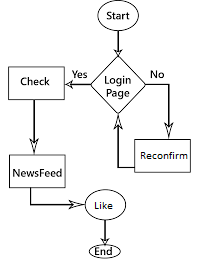arrow: (144, 81, 175, 139), (111, 113, 136, 169), (28, 186, 86, 208), (27, 98, 41, 156), (111, 28, 126, 59), (98, 218, 111, 246), (64, 79, 94, 89)
process: (7, 65, 67, 102), (7, 152, 68, 188), (132, 138, 191, 174)
terminator: (96, 1, 141, 32), (84, 189, 127, 221), (87, 243, 123, 260)
text: (104, 74, 133, 101), (11, 166, 65, 179), (139, 150, 189, 161), (17, 75, 52, 86), (104, 10, 132, 21), (94, 245, 113, 257), (70, 68, 89, 80), (148, 68, 166, 80), (93, 200, 114, 210)
